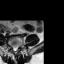CCS_normal: (14, 45, 16, 53)
LFS_stenosis: (17, 44, 20, 49)
LLS_normal: (16, 45, 17, 52)
RFS_severe_stenosis: (10, 43, 12, 49)
RLS_normal: (12, 45, 14, 52)
